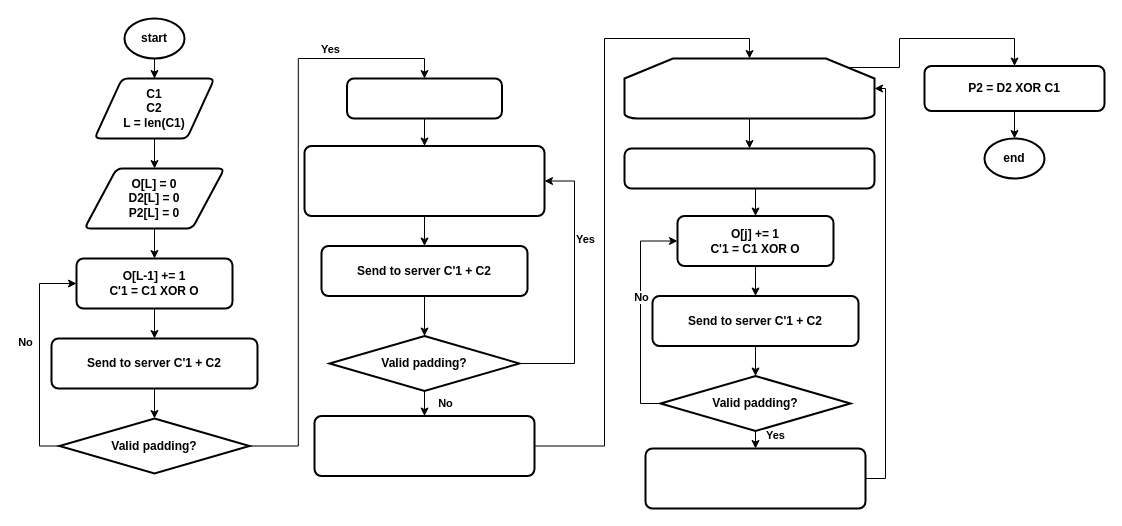
Image size: 1122x526. Some labels were removed from this diagram. Each missing label, with the box of its shape:
D2[j] = (L - j) XOR C'1[j]: (644, 447, 866, 509)
D2[L-1] = (L-i) XOR C'1[L-1]: (313, 414, 535, 476)
for (int j = L - 2; j >= 0; j--): (623, 57, 875, 119)
i = 0: (346, 77, 502, 119)
O[i] = 1 C'1 = C1 XOR O O[i] = 0 i++: (303, 144, 545, 216)
Изменяем O[j-1: L-1] под корректное следующее дополнение: (623, 147, 875, 189)
